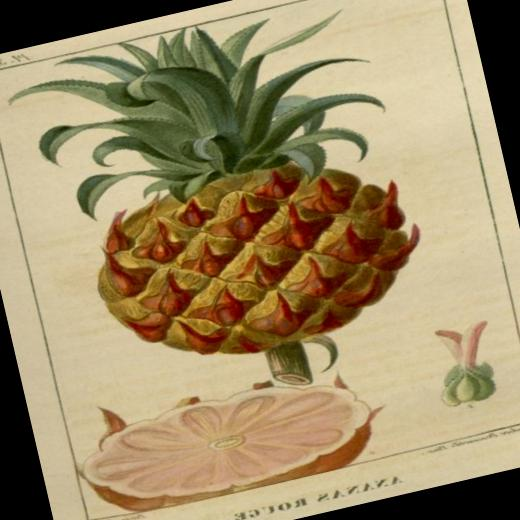Mango: (0, 0, 441, 426)
